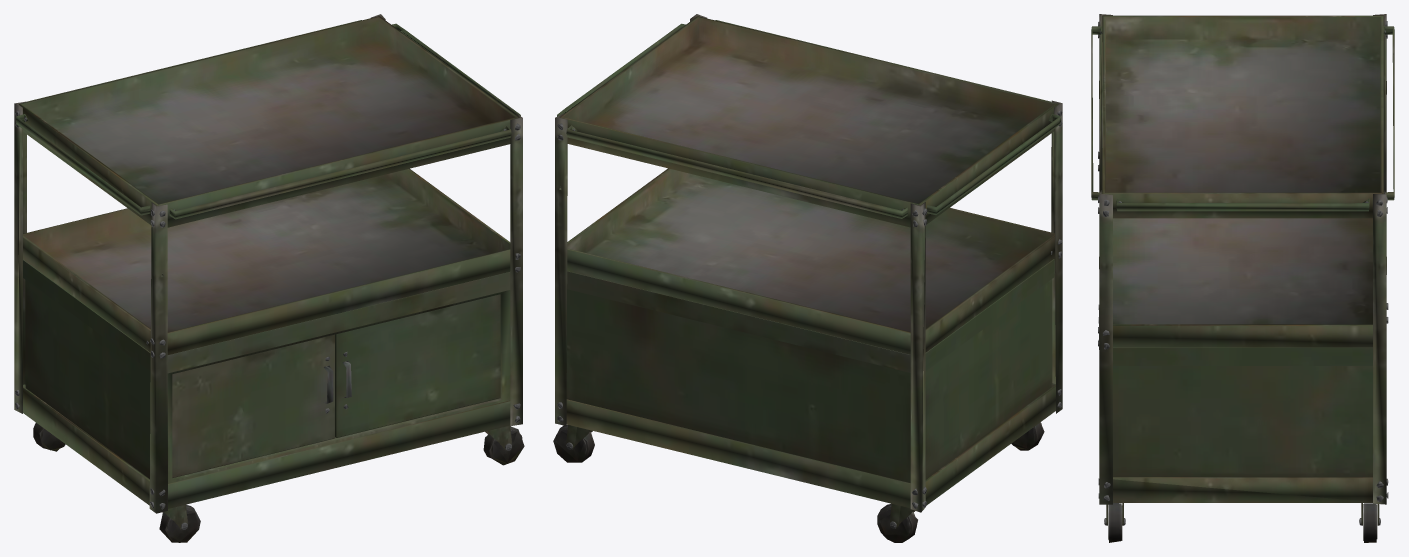
File: workbench-3.glb
The picture shows the model from 3 angles, left to right: view 1: azimuth 30°, elevation 25°; view 2: azimuth 150°, elevation 25°; view 3: azimuth 270°, elevation 25°; orthographic projection.
Visible parts, largest first — view 1: industrial_storage_cart; view 2: industrial_storage_cart; view 3: industrial_storage_cart.
Part boxes in pixels (left/top/right/bottom): industrial_storage_cart: left=14, top=14, right=524, bottom=542; industrial_storage_cart: left=553, top=14, right=1062, bottom=542; industrial_storage_cart: left=1091, top=14, right=1394, bottom=542.
Size of the model in its own units: 1.58 by 1.38 by 1.08.
Materials: 1 (1 with a texture image).
